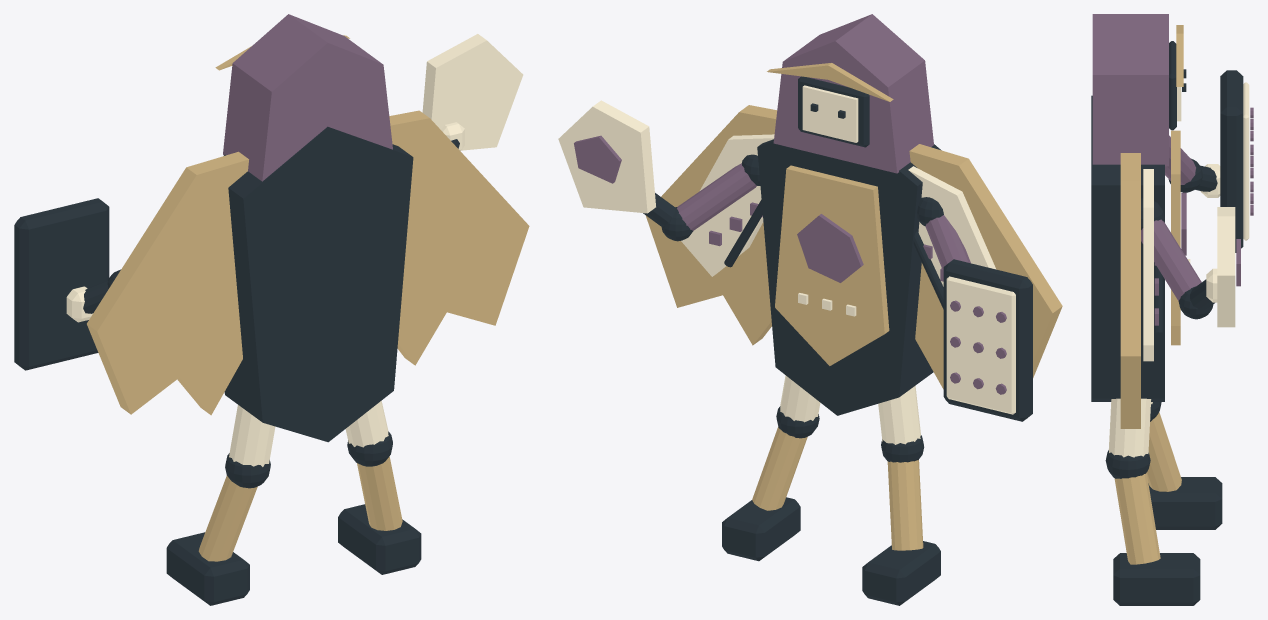
The picture shows the model from 3 angles, left to right: view 1: azimuth 30°, elevation 25°; view 2: azimuth 150°, elevation 25°; view 3: azimuth 270°, elevation 25°; orthographic projection. The views are drawn at different scales.
Visible parts, largest first — view 1: inner_fold, left_absorbent_cape, right_absorbent_cape, hood, decoder_paddle_back, right_blotter_fan, left_shoe, right_shoe, left_shin, right_shin, left_thigh, right_thigh (+2 smaller); view 2: inner_fold, absorbent_bib, hood, right_absorbent_cape, left_absorbent_cape, decoder_paddle_pad, right_blotter_fan, decoder_paddle_back, right_paper_outer_fold, left_shoe, right_shoe, left_paper_outer_fold (+15 smaller); view 3: hood, inner_fold, right_absorbent_cape, right_shoe, decoder_paddle_back, left_shoe, right_shin, right_blotter_fan, right_paper_outer_fold, right_arm_upper, left_shin, right_thigh (+16 smaller).
Boxes of the visible parts, x1,y1,x2,y2 form: inner_fold: (224, 126, 413, 442); left_absorbent_cape: (87, 151, 248, 415); right_absorbent_cape: (389, 110, 529, 365); hood: (223, 14, 392, 181); decoder_paddle_back: (14, 198, 109, 370); right_blotter_fan: (422, 34, 523, 150); left_shoe: (166, 532, 249, 605); right_shoe: (338, 504, 421, 574); left_shin: (198, 475, 257, 561); right_shin: (357, 456, 402, 530); left_thigh: (229, 405, 275, 466); right_thigh: (345, 401, 388, 447); inner_fold: (757, 139, 941, 415); absorbent_bib: (775, 165, 889, 365); hood: (773, 14, 933, 173); right_absorbent_cape: (645, 105, 777, 345); left_absorbent_cape: (909, 144, 1062, 389); decoder_paddle_pad: (946, 276, 1015, 414); right_blotter_fan: (558, 100, 655, 213); decoder_paddle_back: (943, 259, 1032, 421); right_paper_outer_fold: (681, 134, 774, 276); left_shoe: (862, 541, 940, 605); right_shoe: (722, 497, 800, 561); left_paper_outer_fold: (908, 166, 996, 286); hood: (1092, 14, 1168, 166); inner_fold: (1091, 95, 1164, 401); right_absorbent_cape: (1120, 153, 1140, 428); right_shoe: (1113, 553, 1200, 605); decoder_paddle_back: (1220, 70, 1243, 252); left_shoe: (1148, 477, 1222, 529); right_shin: (1114, 473, 1160, 564); right_blotter_fan: (1217, 207, 1235, 327); right_paper_outer_fold: (1143, 169, 1153, 361); right_arm_upper: (1141, 219, 1201, 300); left_shin: (1146, 412, 1181, 491); right_thigh: (1108, 398, 1151, 457).
Bounding box in the file's own units: 2.06 × 2.2 × 0.595.
